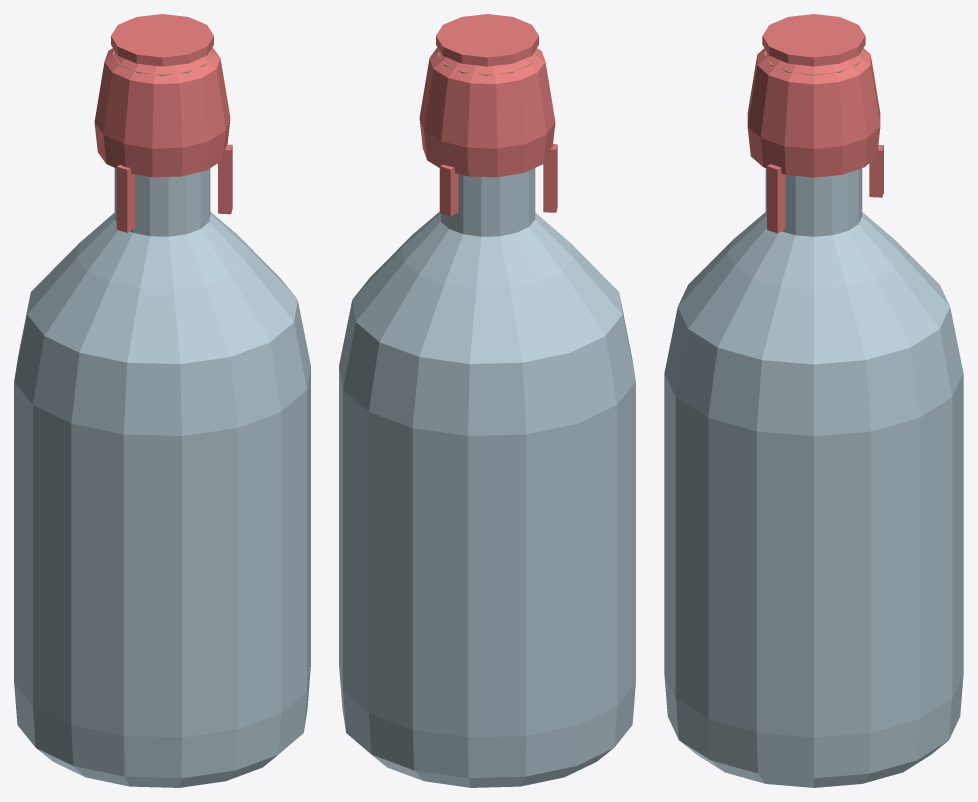
The model's file is Item_TonicBottle_AMF_T3.glb.
The picture shows the model from 3 angles, left to right: view 1: azimuth 30°, elevation 25°; view 2: azimuth 150°, elevation 25°; view 3: azimuth 270°, elevation 25°; orthographic projection.
Visible parts, largest first — view 1: Item_TonicBottle_AMF_T3; view 2: Item_TonicBottle_AMF_T3; view 3: Item_TonicBottle_AMF_T3.
Boxes of the visible parts, x1,y1,x2,y2 form: Item_TonicBottle_AMF_T3: (14, 14, 310, 787); Item_TonicBottle_AMF_T3: (339, 14, 635, 787); Item_TonicBottle_AMF_T3: (664, 14, 963, 787).
Size of what is drawn, in the model's own units: 0.09 by 0.232 by 0.09.
